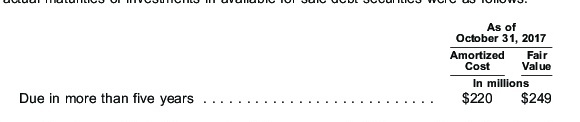table: (0, 0, 580, 122)
